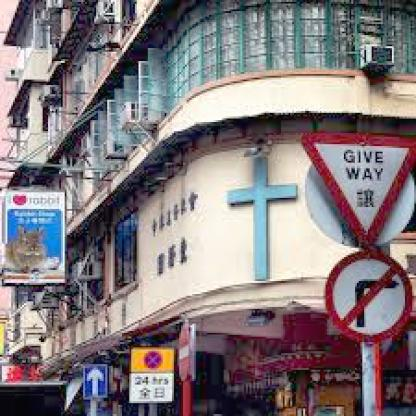No right turn: (330, 248, 413, 342)
